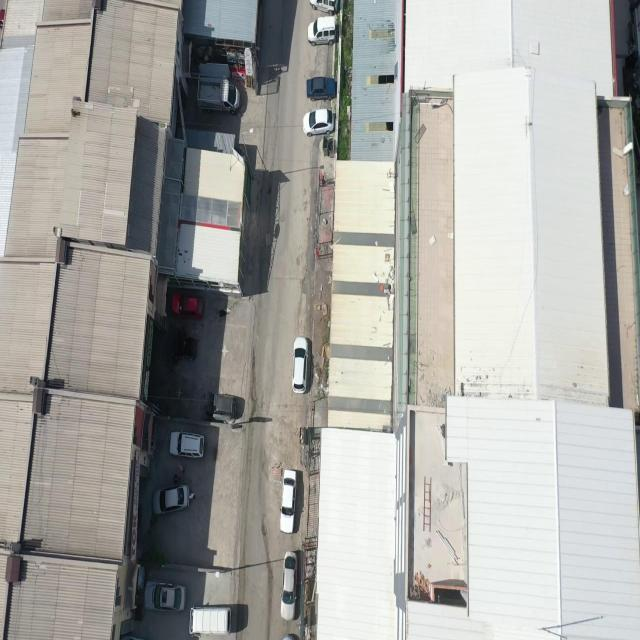p3rson: (173, 474, 181, 483), (178, 464, 185, 473), (172, 353, 179, 362), (189, 491, 195, 500)
